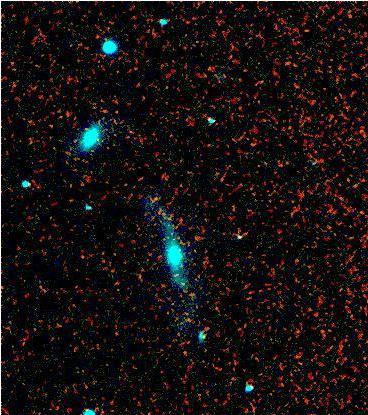star: (141, 186, 171, 216)
